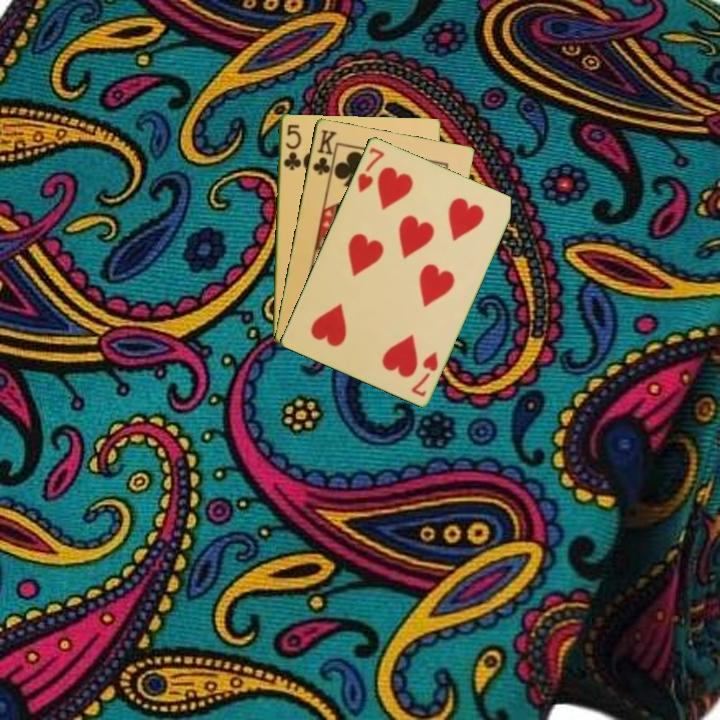5c: (280, 121, 303, 173)
7h: (354, 143, 387, 195), (408, 347, 441, 399)
Kc: (309, 126, 339, 182)
